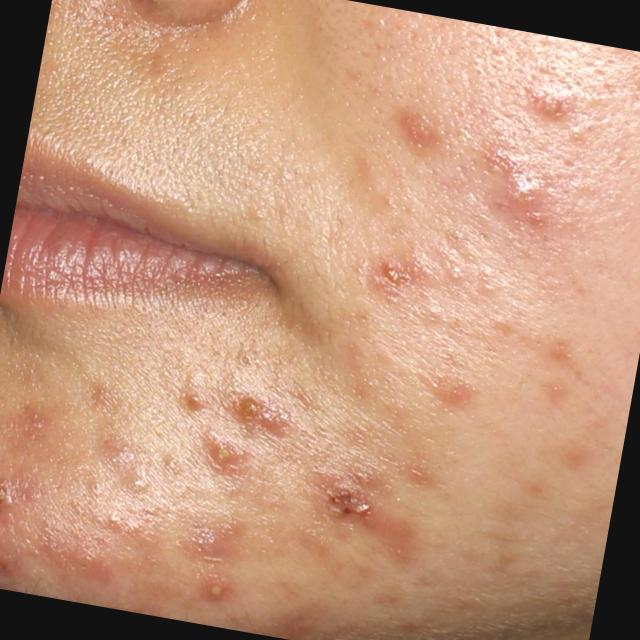blackhead: (236, 354, 252, 367)
nodule: (496, 163, 554, 216)
